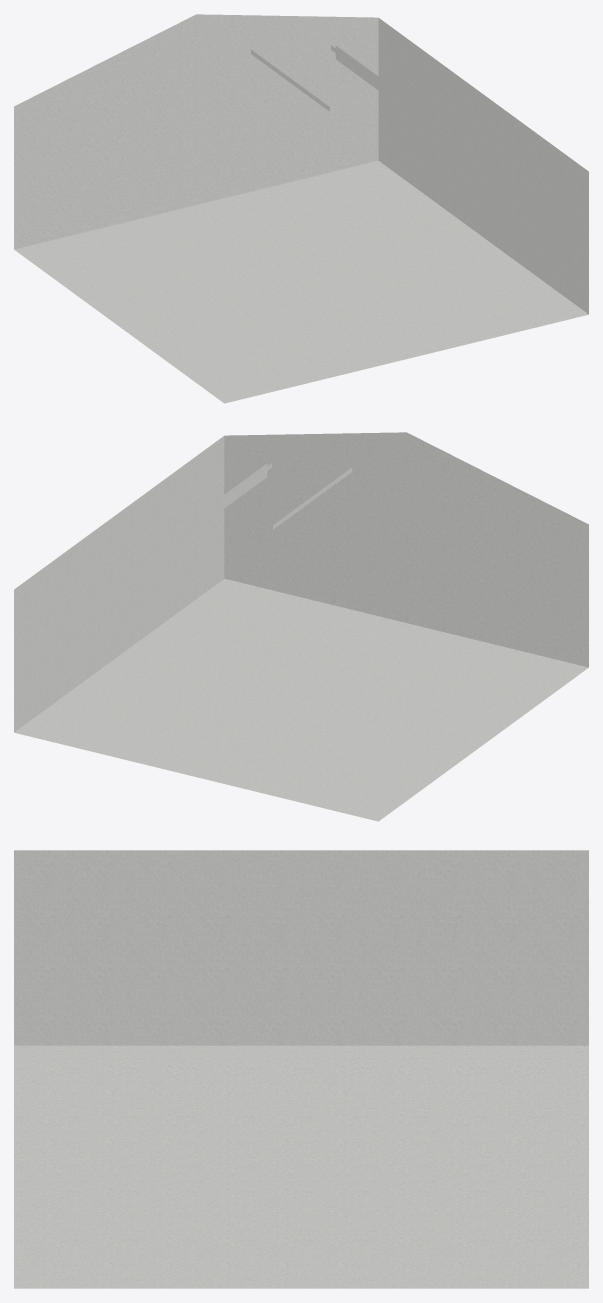
Rendered from MozLightmap.glb.
3 views of the same model, one above another, from view 1: azimuth 30°, elevation 25°; view 2: azimuth 150°, elevation 25°; view 3: azimuth 270°, elevation 25° (orthographic). The views are drawn at different scales.
Visible parts, largest first — view 1: Cube; view 2: Cube; view 3: Cube.
Boxes of the visible parts, box(x1,y1,x2,y2) form: Cube: box(14, 14, 588, 403); Cube: box(14, 432, 588, 821); Cube: box(14, 850, 588, 1288).
Bounding box in the file's own units: 8 × 4.33 × 8.
Materials: 1 (1 with a texture image).
